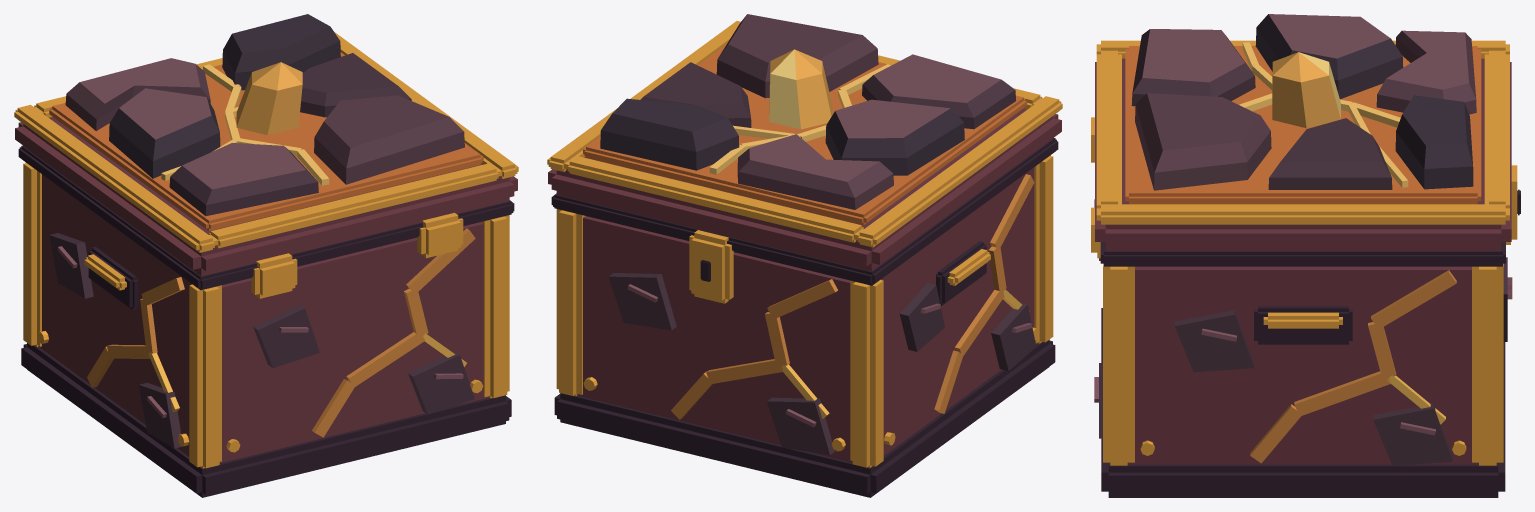
File: crate_magma.fbx
3 views of the same model, side by side, from view 1: azimuth 30°, elevation 25°; view 2: azimuth 150°, elevation 25°; view 3: azimuth 270°, elevation 25° (orthographic). The views are drawn at different scales.
Visible parts, largest first — view 1: crate_magma_caixa, crate_magma_caixa_neon; view 2: crate_magma_caixa, crate_magma_caixa_neon; view 3: crate_magma_caixa, crate_magma_caixa_neon.
Part boxes in pixels (box(x1,y1,x2,y2)): crate_magma_caixa: box(14, 14, 518, 497); crate_magma_caixa_neon: box(87, 64, 475, 437); crate_magma_caixa: box(547, 14, 1062, 497); crate_magma_caixa_neon: box(671, 64, 1034, 419); crate_magma_caixa: box(1091, 14, 1520, 497); crate_magma_caixa_neon: box(1239, 42, 1456, 463).
Bounding box in the file's own units: 2.68 × 2.57 × 2.7.
Materials: 1 (1 with a texture image).
